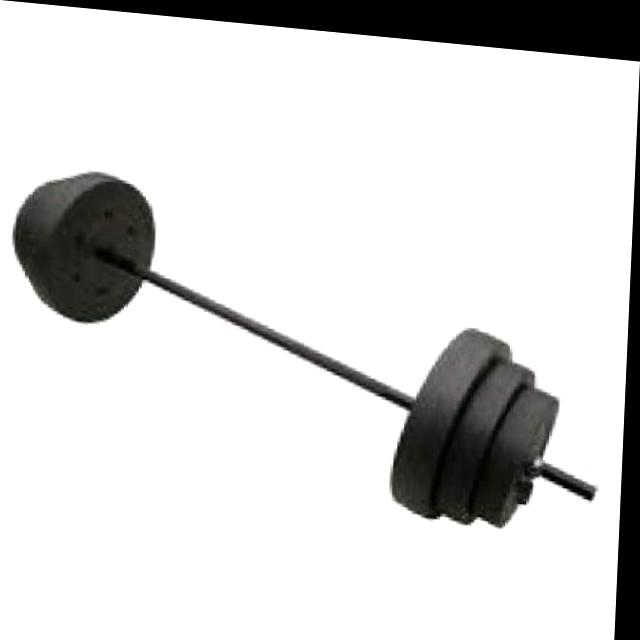barbell: (500, 375, 615, 535)
